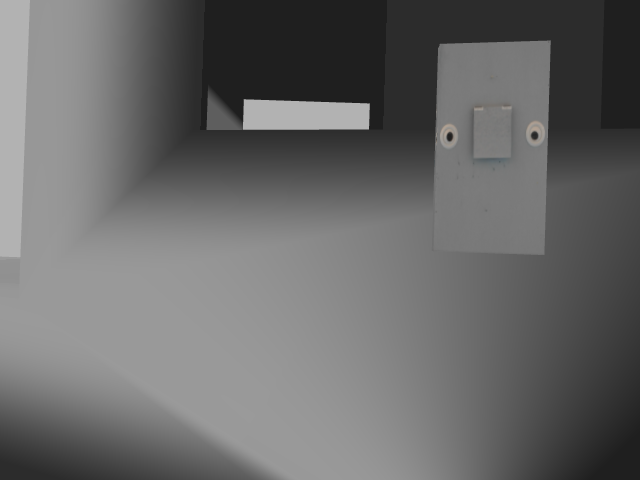facade: (435, 104, 548, 162)
